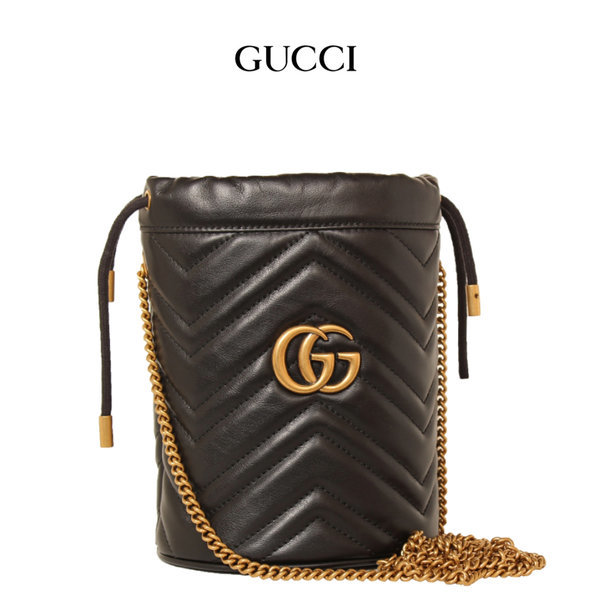Gucci: (94, 168, 501, 579), (237, 307, 376, 416)
